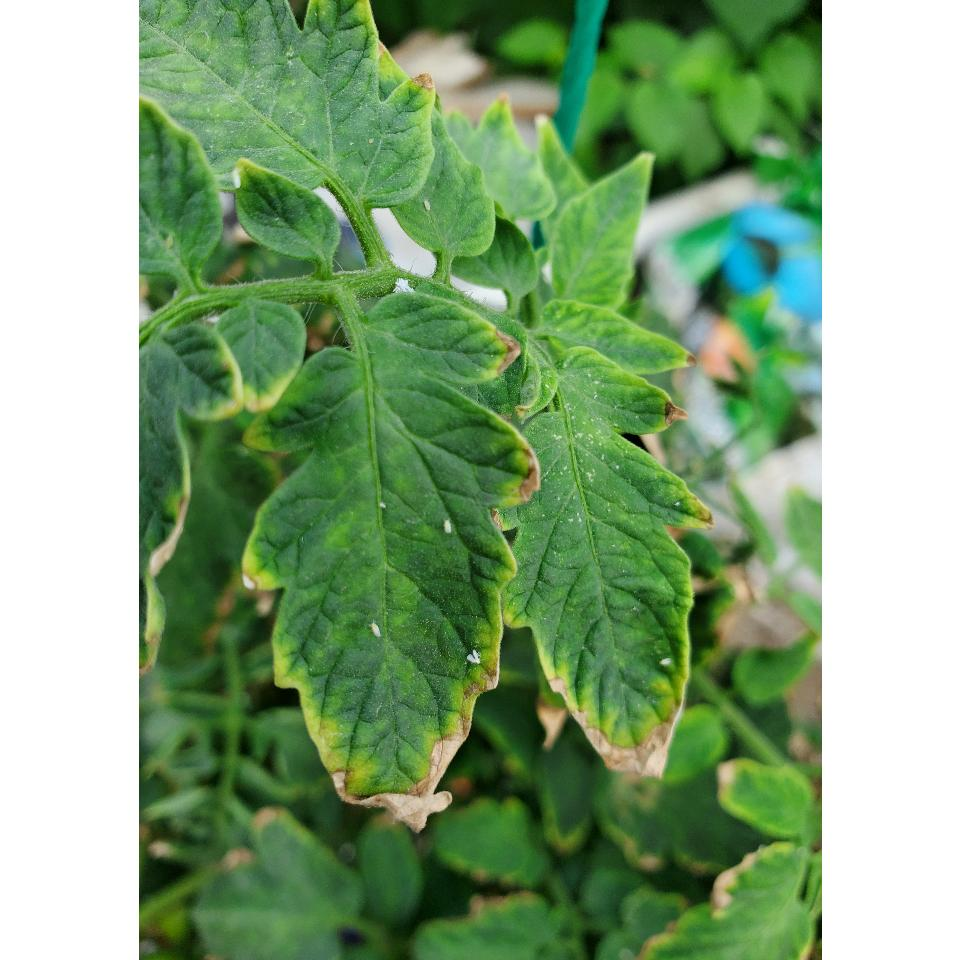tomato_bacterial_blight: (288, 296, 546, 840), (528, 548, 730, 788)
